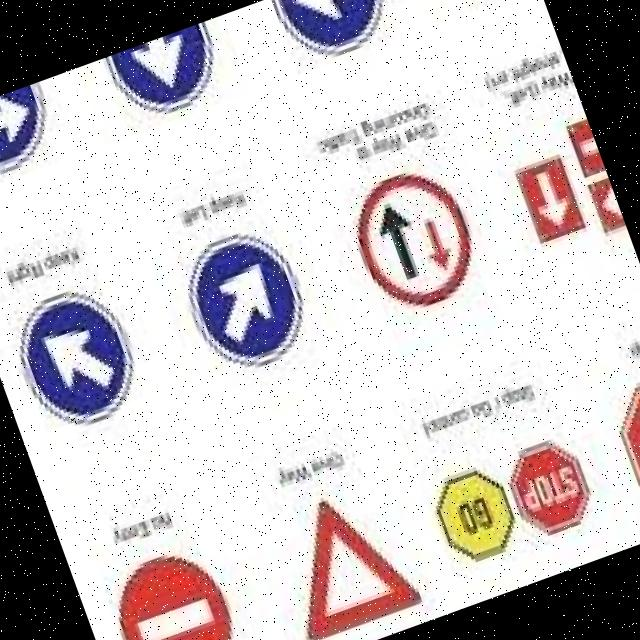compulsory_keep_right: (0, 267, 154, 447), (261, 0, 408, 81)
